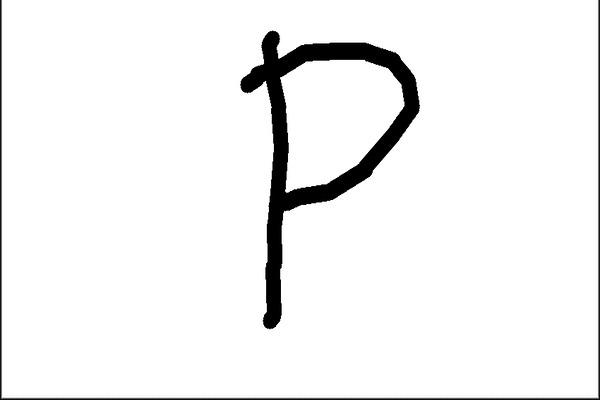P: (221, 22, 425, 344)
